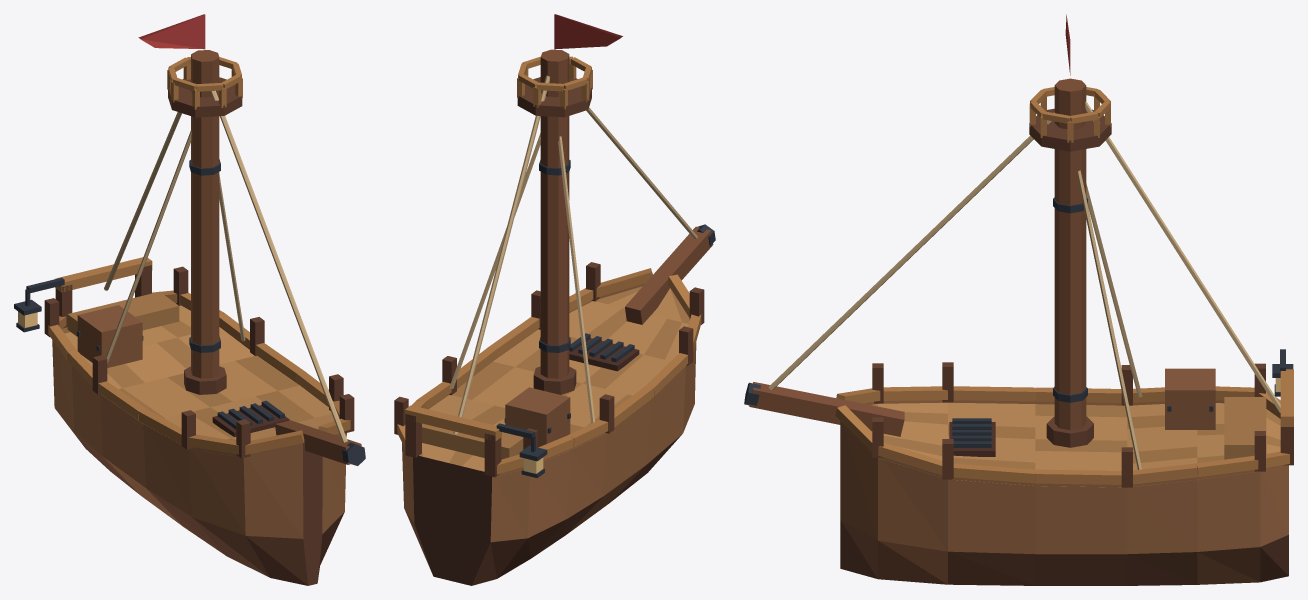
File: BoatHull.obj
3 renders of one model, left to right at view 1: azimuth 30°, elevation 25°; view 2: azimuth 150°, elevation 25°; view 3: azimuth 270°, elevation 25°, orthographic. The views are drawn at different scales.
Visible parts, largest first — view 1: BoatHull; view 2: BoatHull; view 3: BoatHull.
Part boxes in pixels (left/top/right/bottom): BoatHull: left=14, top=14, right=365, bottom=585; BoatHull: left=394, top=14, right=715, bottom=585; BoatHull: left=744, top=14, right=1293, bottom=585.
Bounding box in the file's own units: 2.4 × 6.63 × 6.29.
Materials: 1 (1 with a texture image).
